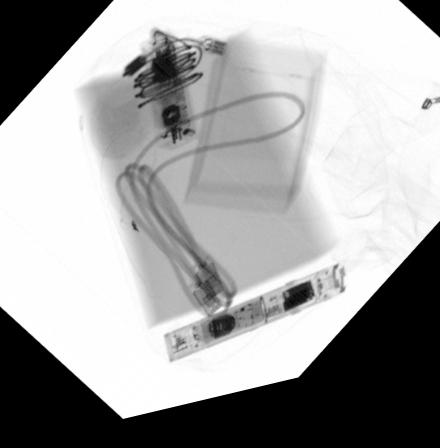Baton: (161, 277, 350, 371)
